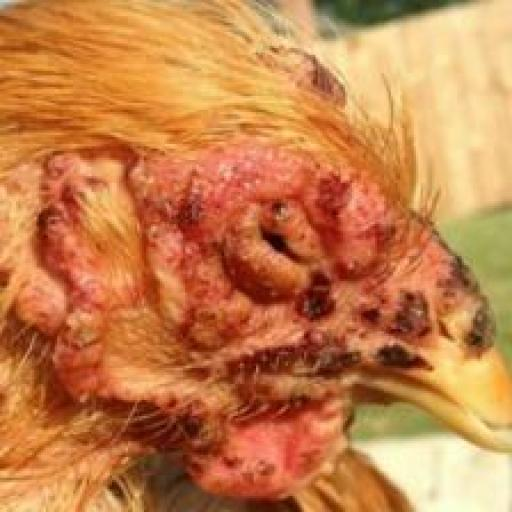disease: (18, 98, 510, 508)
